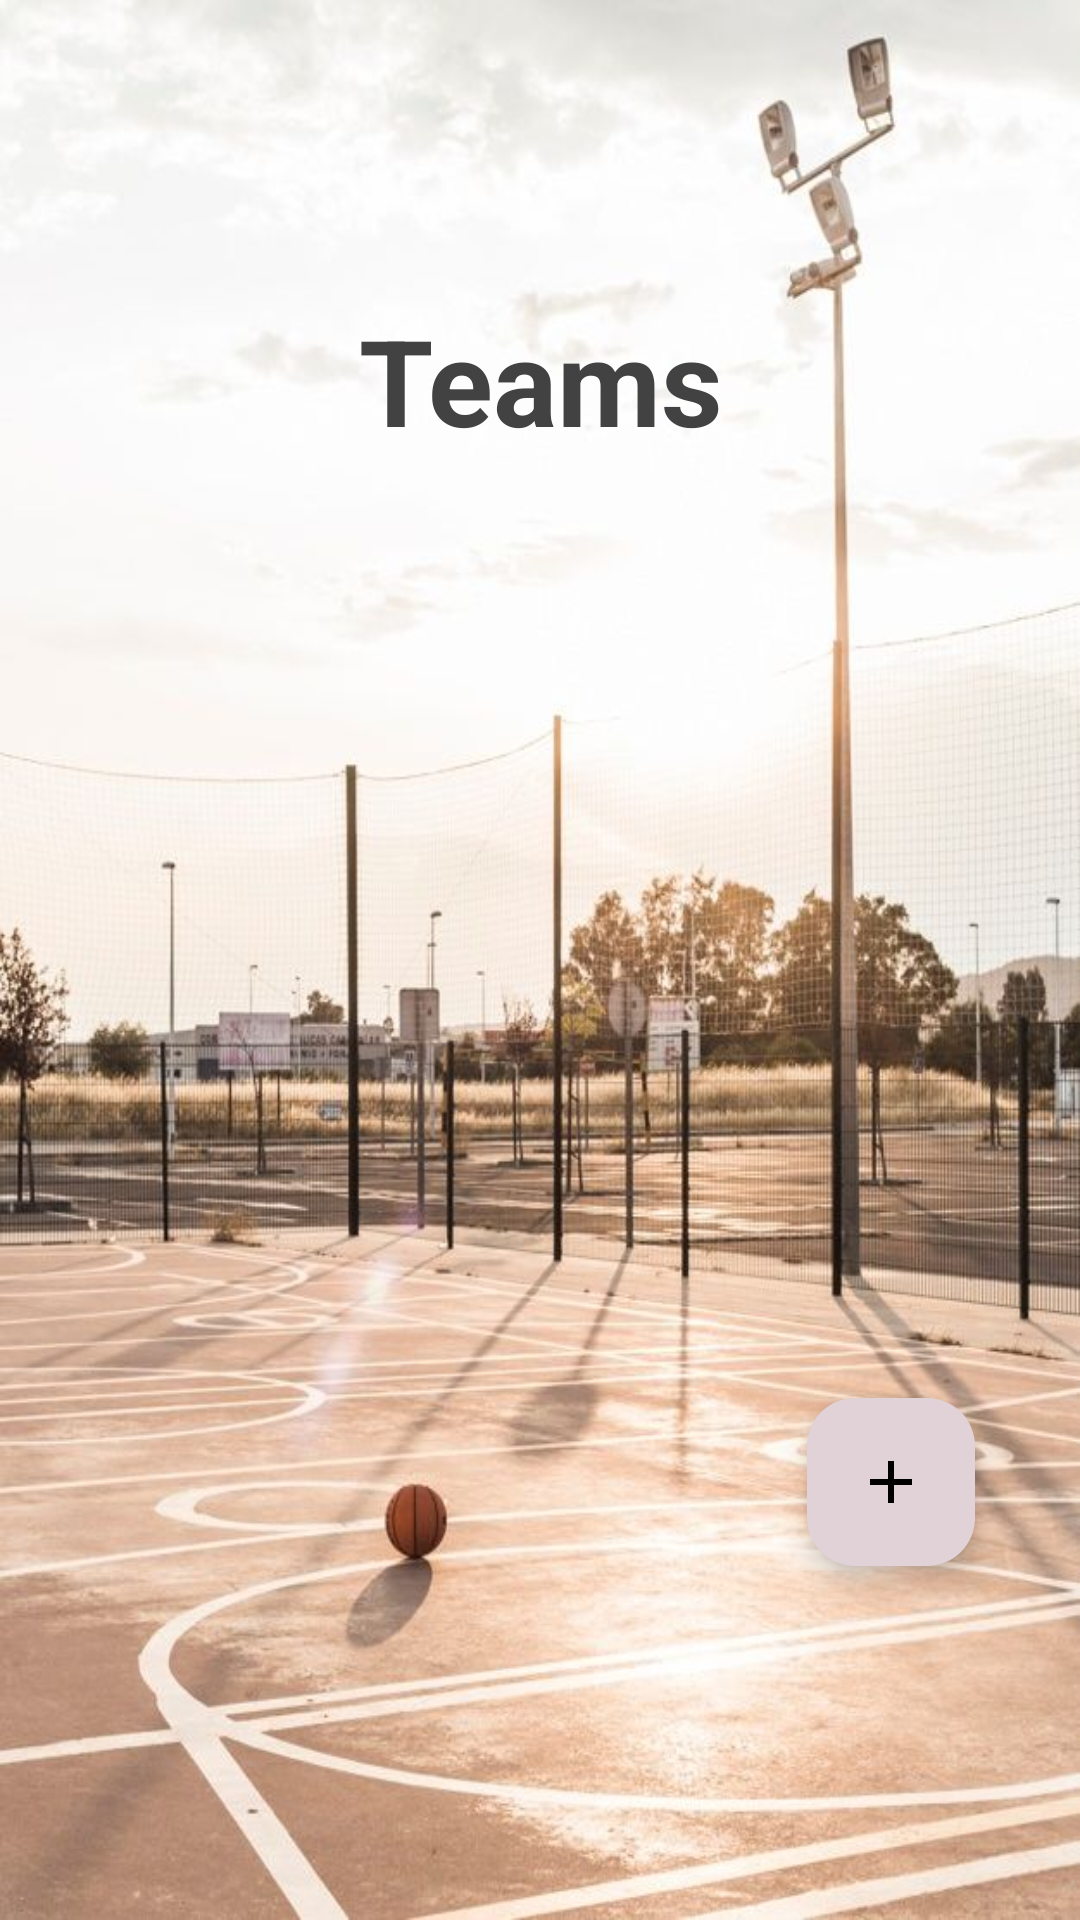

Point at icon controls on the screen. Image size 1080×1920, points as point (x, y).
add: point (891, 1482)
